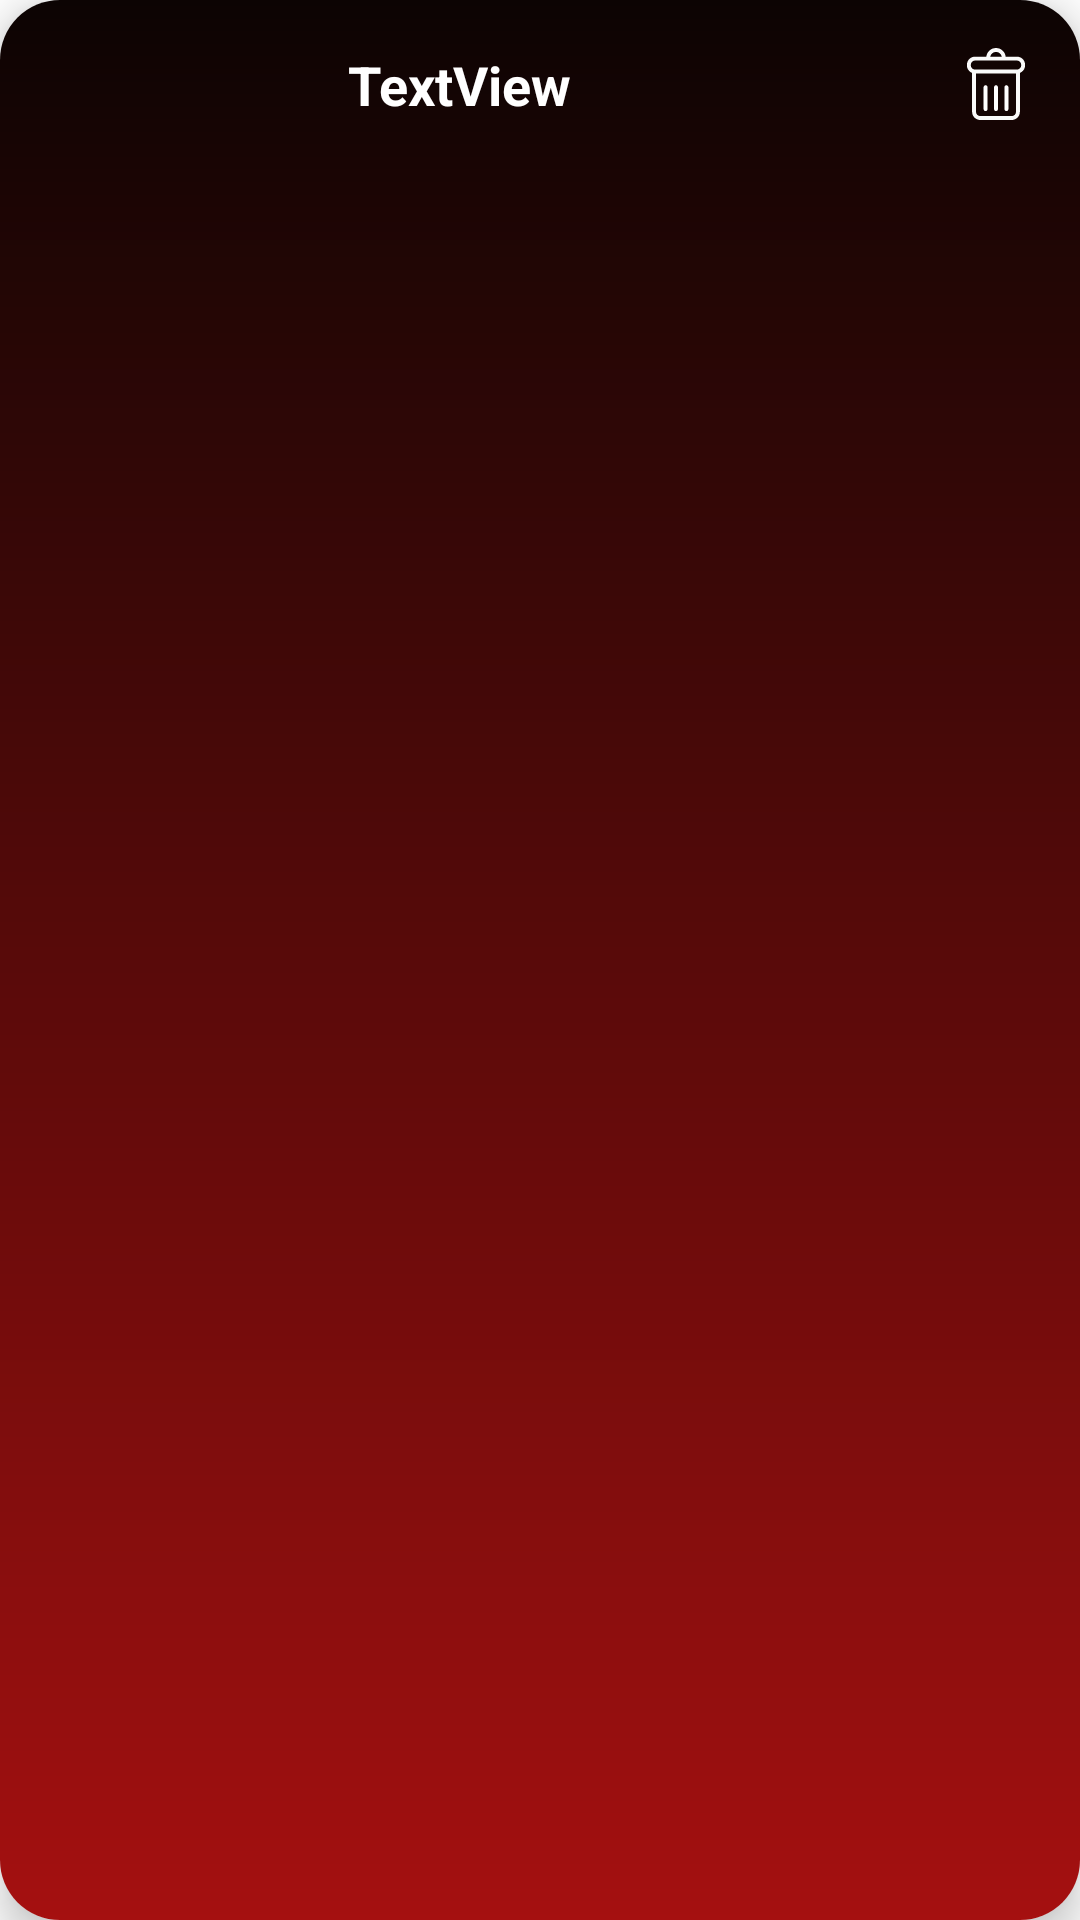

Locate icon controls on the screen. Image size 1080*1920, boxes as detection(x1, y1, x2, y2).
delete: detection(967, 48, 1025, 120)
